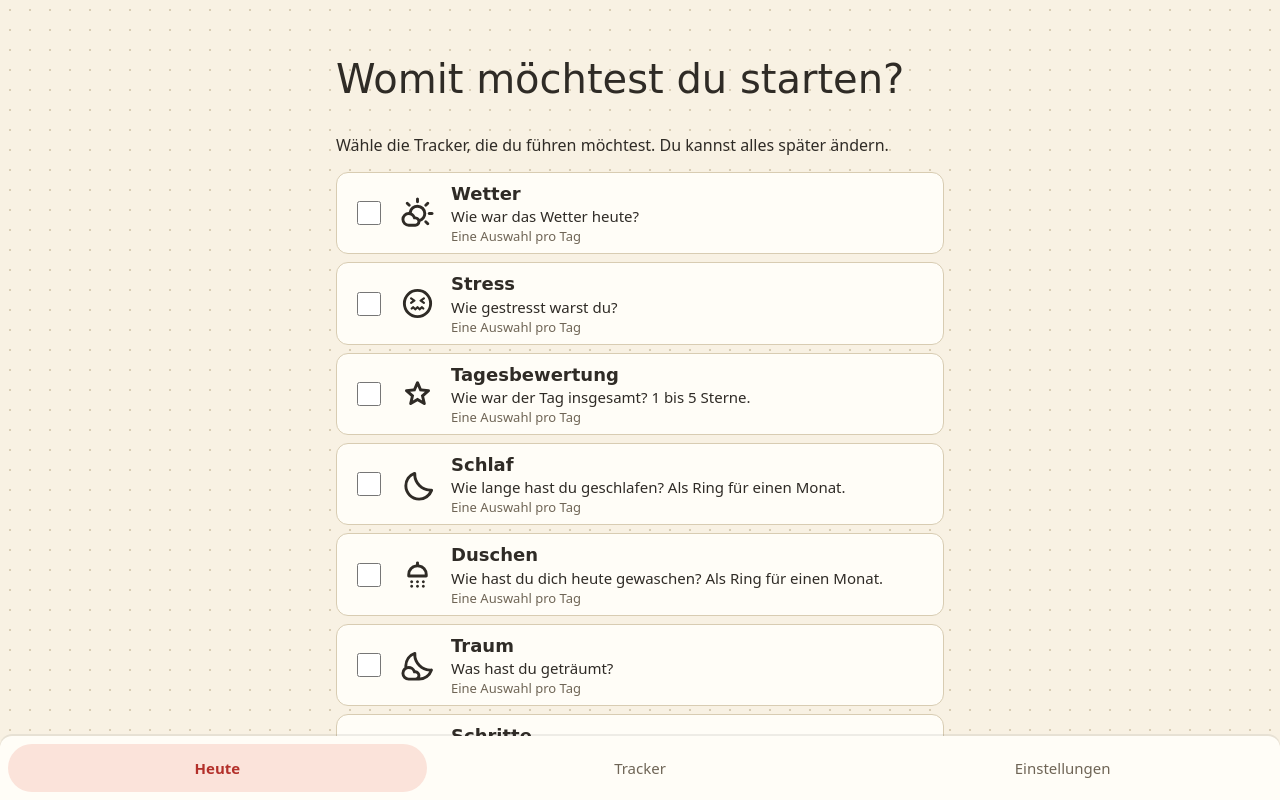
Test case: tracker detail › lists trackers with how many days are filled in this year
Expected: the heading "Womit möchtest du starten?" is shown, [336, 51, 944, 107]
What coordinates should you click on to do the following:
click the checkbox labelled "Wetter Wie war das Wetter heute? Eine Auswahl pro Tag"
I would click on:
 (369, 213)
Its box is [357, 201, 381, 225].
(page scrolled)
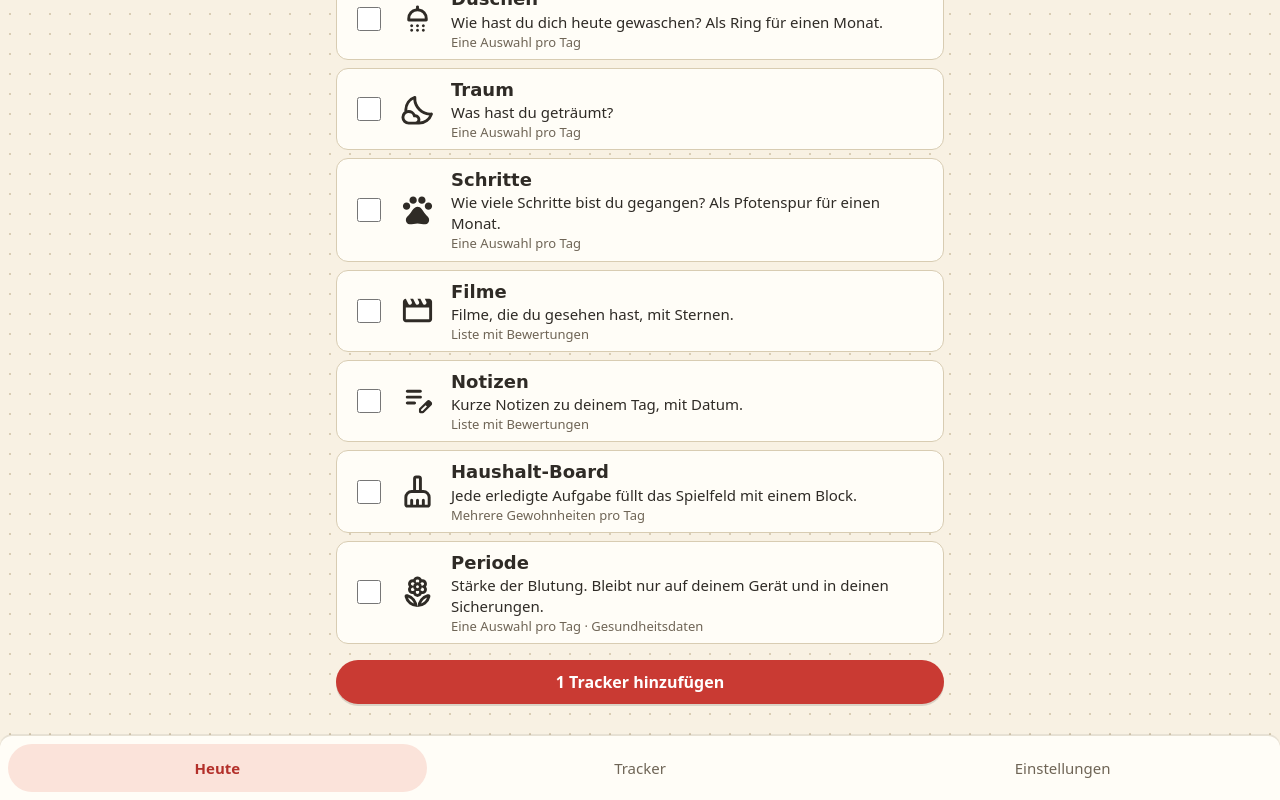
What coordinates should you click on to do the following:
click the button "1 Tracker hinzufügen"
I would click on:
 (640, 682)
Its box is [336, 660, 944, 704].
(page scrolled)
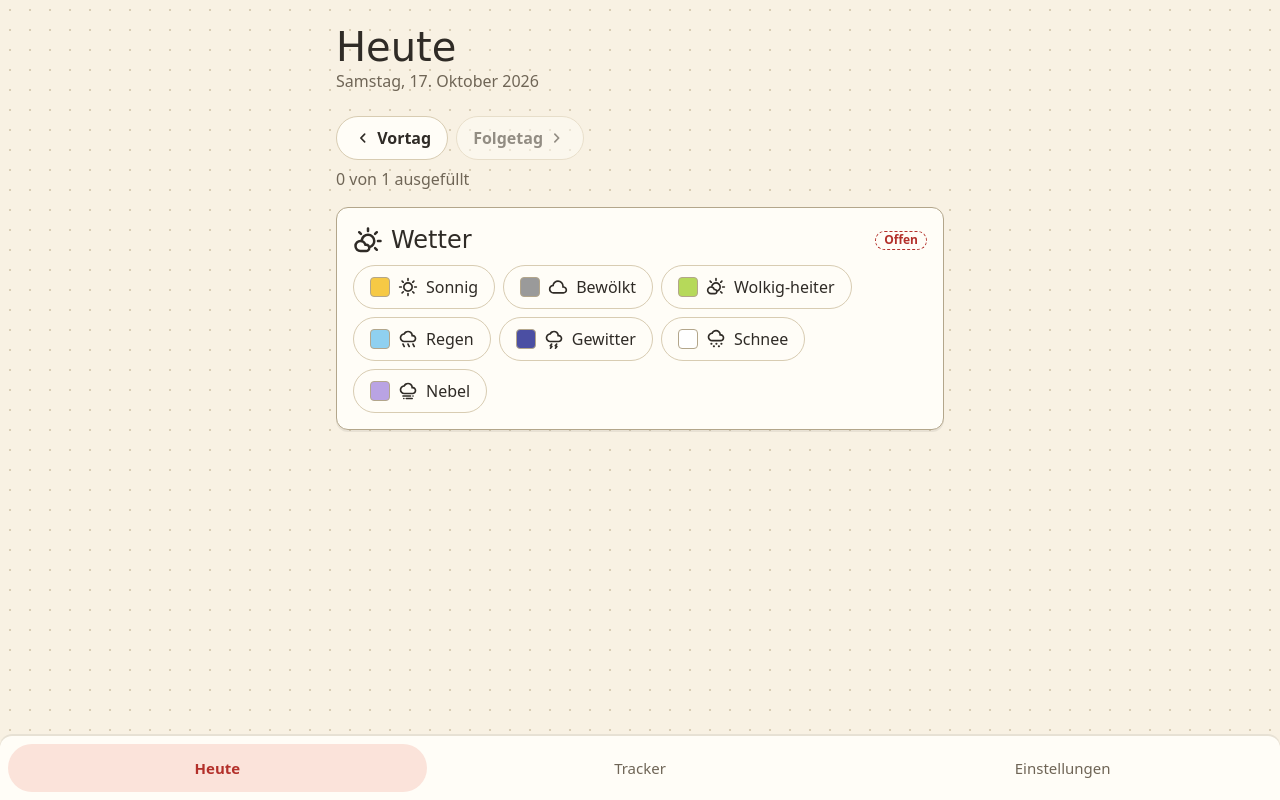
What coordinates should you click on to do the following:
click the button "Sonnig"
I would click on:
 (424, 287)
Its box is [353, 265, 495, 309].
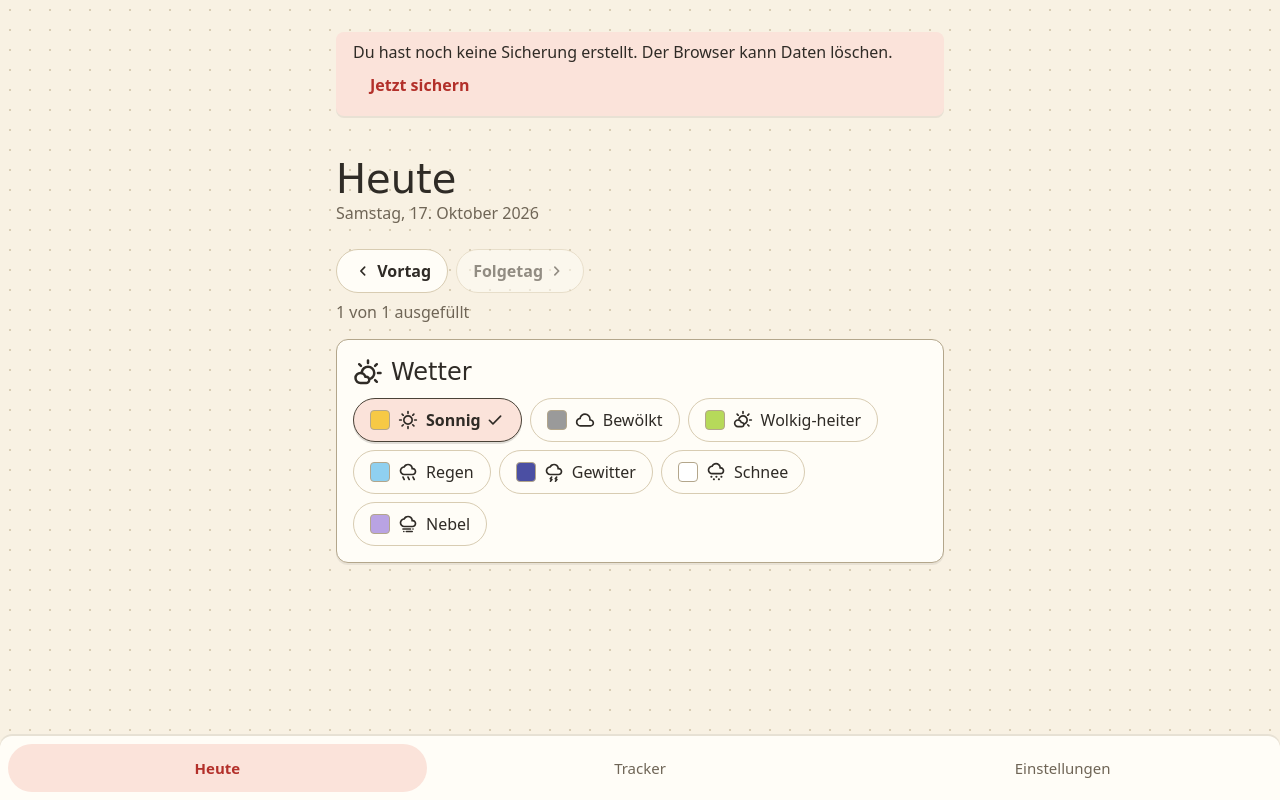
What coordinates should you click on to do the following:
click the button "Tracker"
I would click on:
 (640, 768)
Its box is [431, 744, 849, 792].
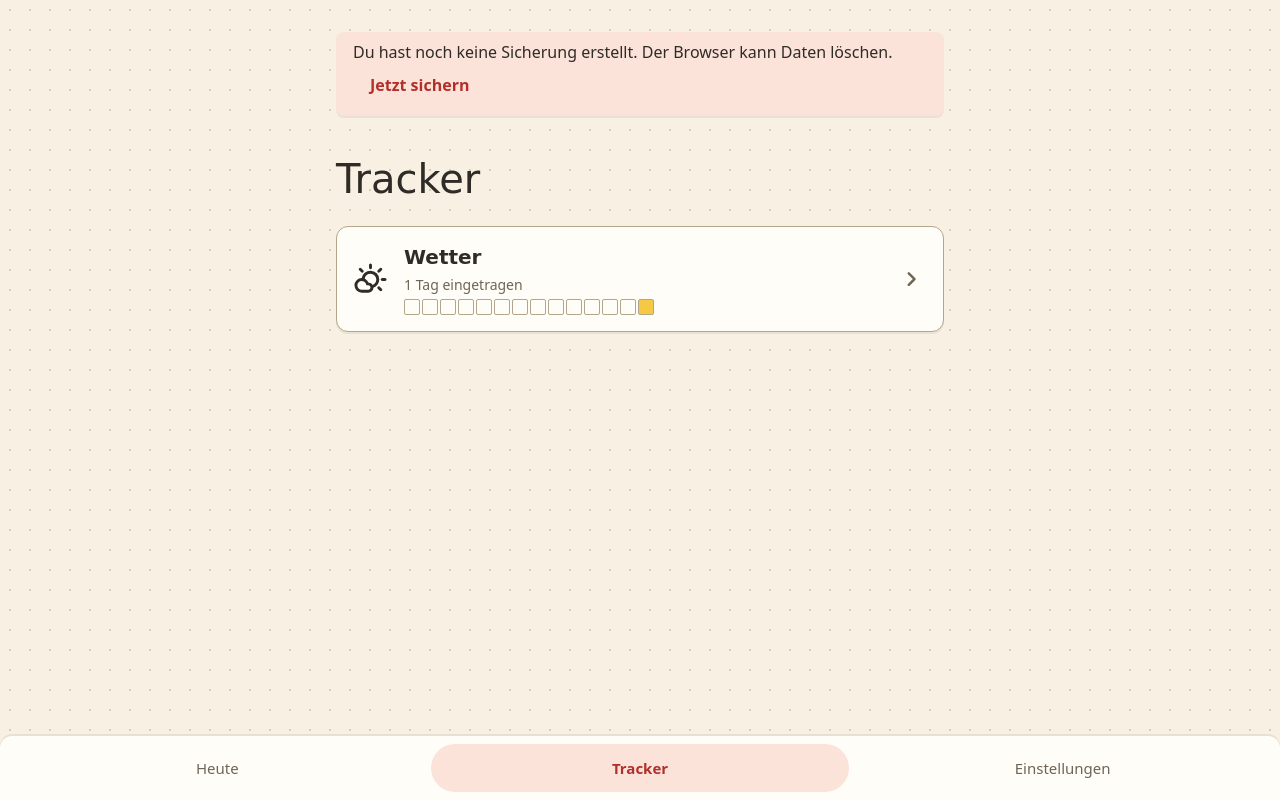
Expected: the button "Wetter 1 Tag eingetragen" is shown, [336, 226, 944, 332]
